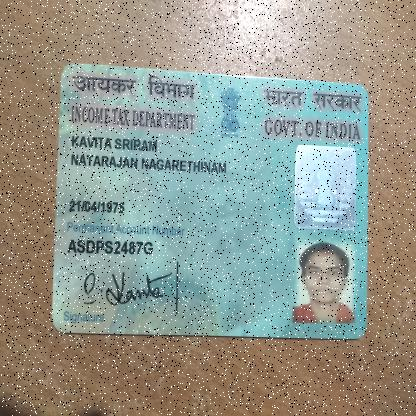pan_card: (49, 49, 375, 349)
